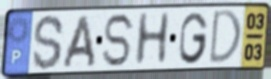A: (60, 14, 98, 70)
D: (207, 8, 243, 67)
G: (178, 10, 210, 66)
H: (132, 11, 173, 69)
S: (101, 11, 137, 69), (31, 13, 66, 72)
